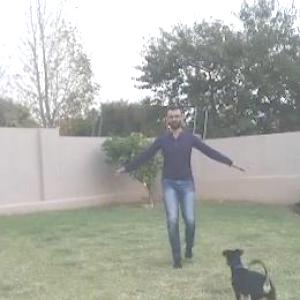land: (83, 74, 250, 299)
